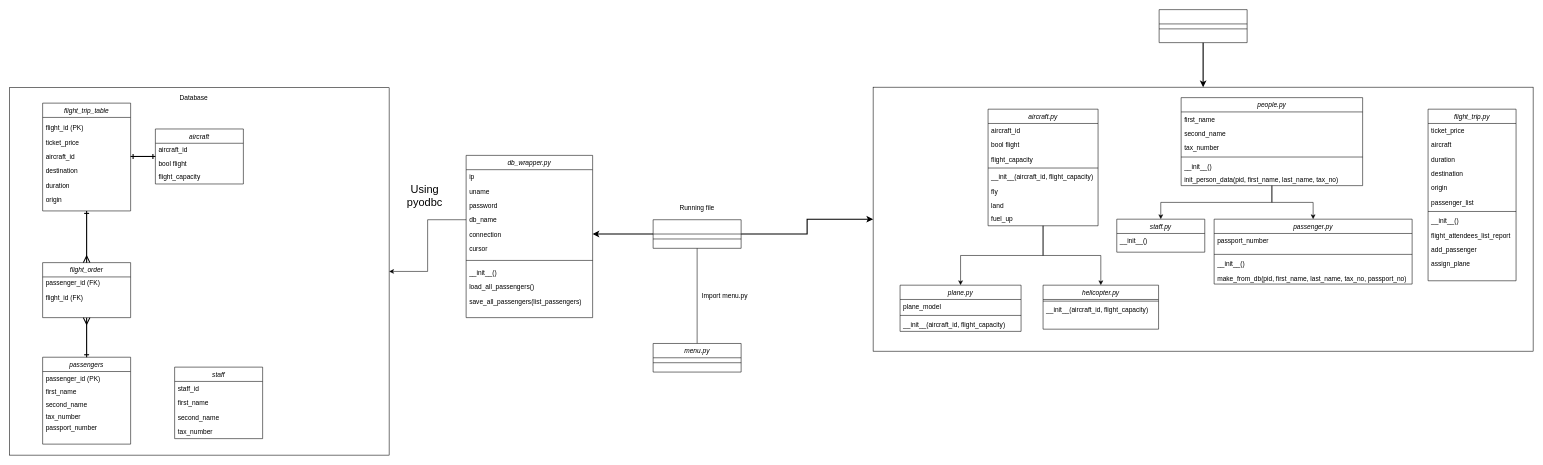
This 1543x465 diagram has some shape labels left out. The shapes that lost their labels are listed below. From the top down, each one's centre as x and y in pixels, then its label:
At (1203,26): "test_plane_project.py".
At (697,233): "run.py".
